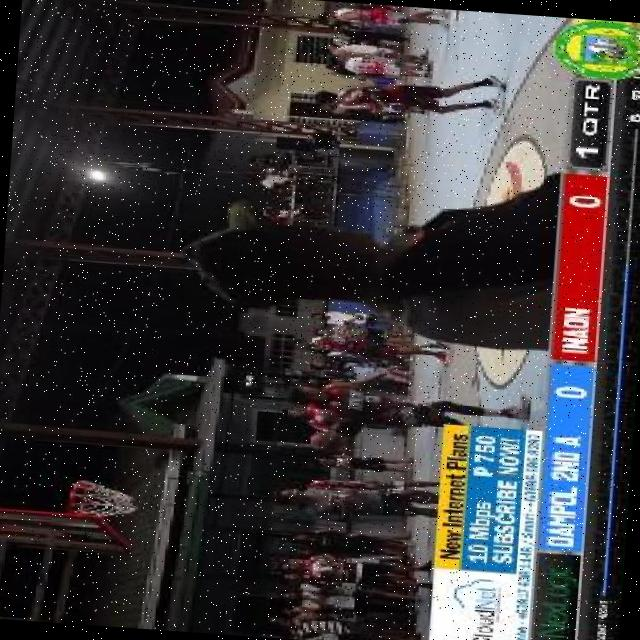ball: (306, 427, 354, 452)
hoop: (66, 478, 94, 510)
